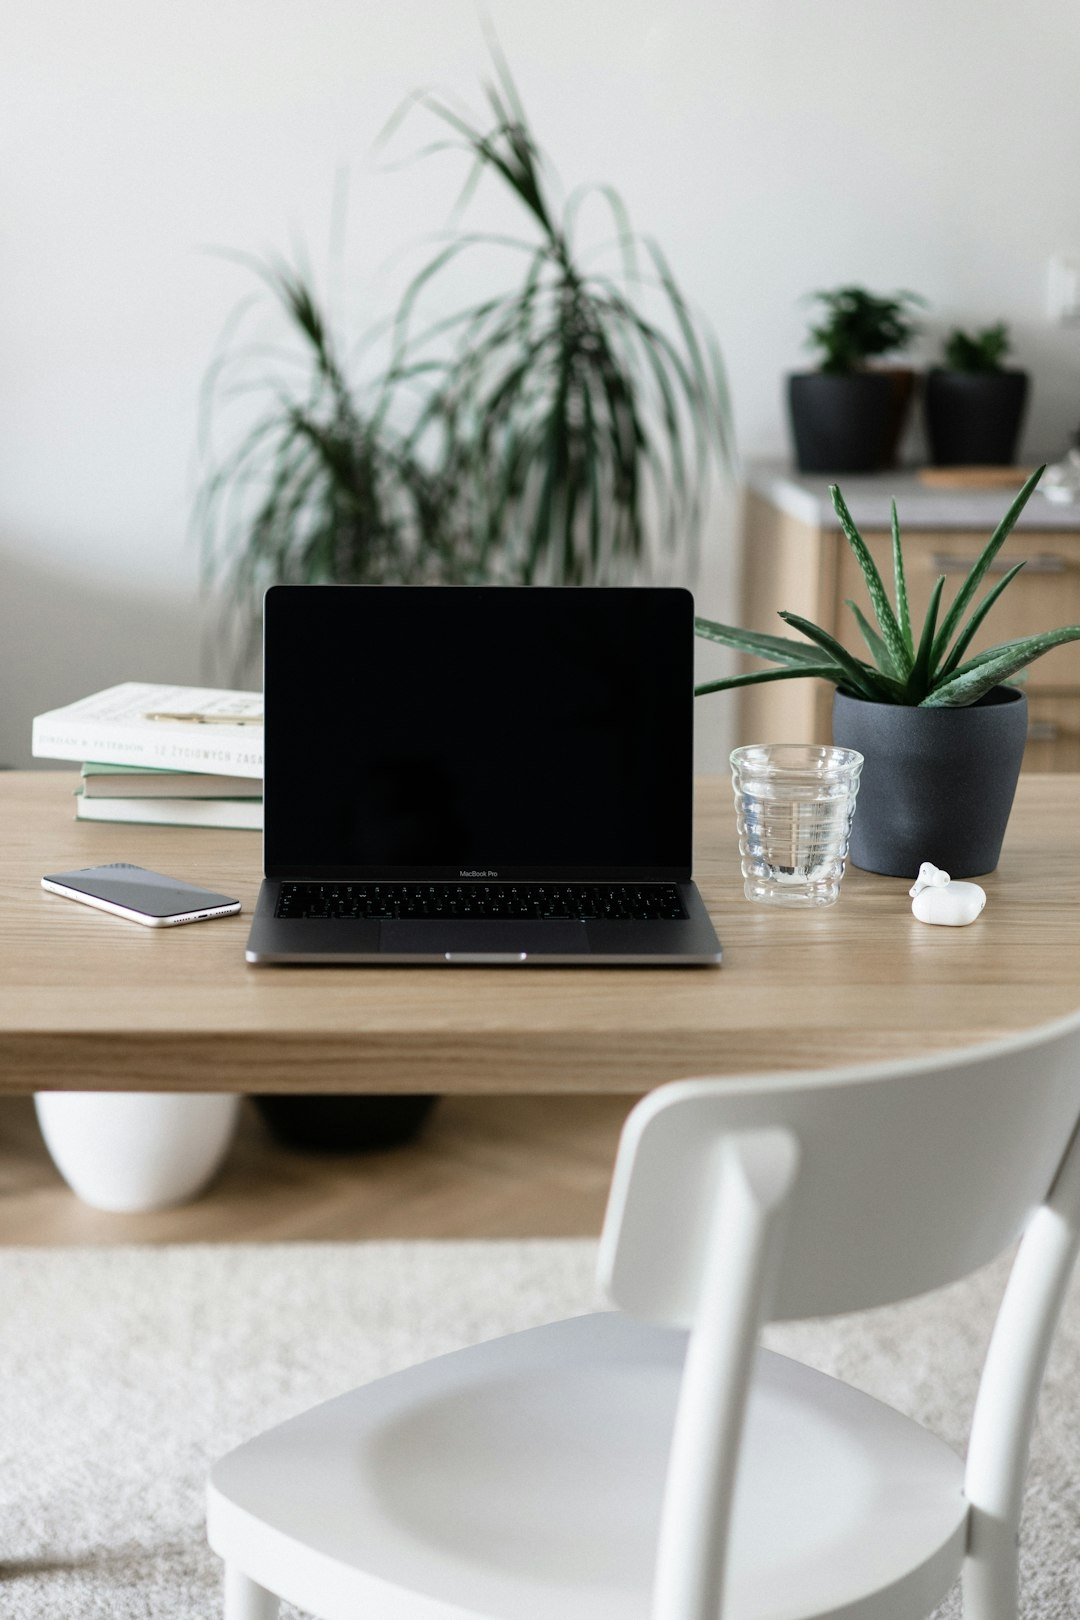laptop: (180, 510, 765, 1032)
